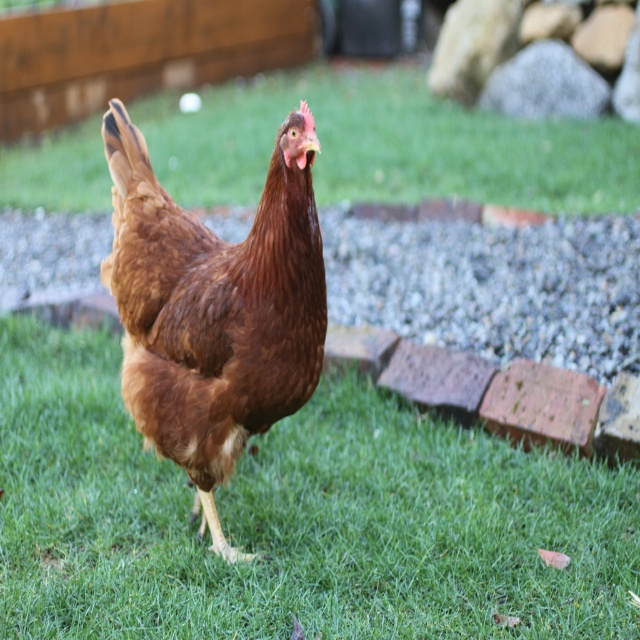Chicken: (101, 95, 326, 567)
